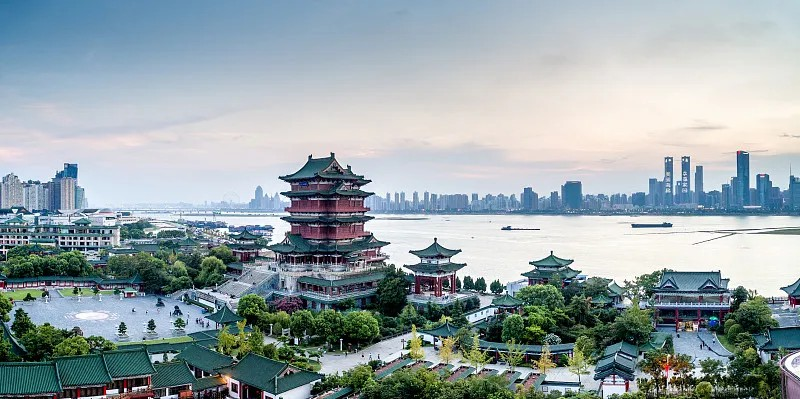Teng: (270, 152, 390, 270)
